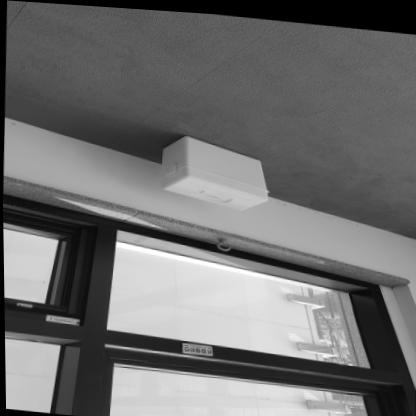DDL: (158, 132, 269, 209)
